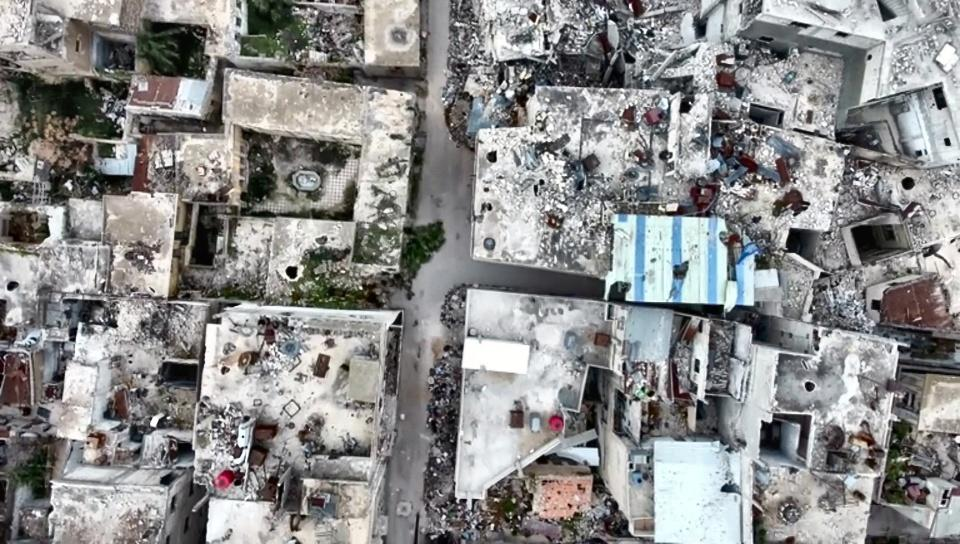kapali: (421, 0, 483, 175)
